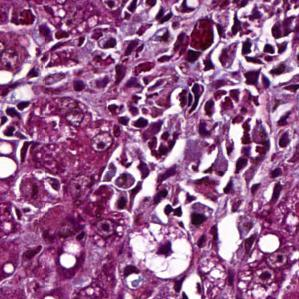ballooning: (127, 221, 195, 281)
